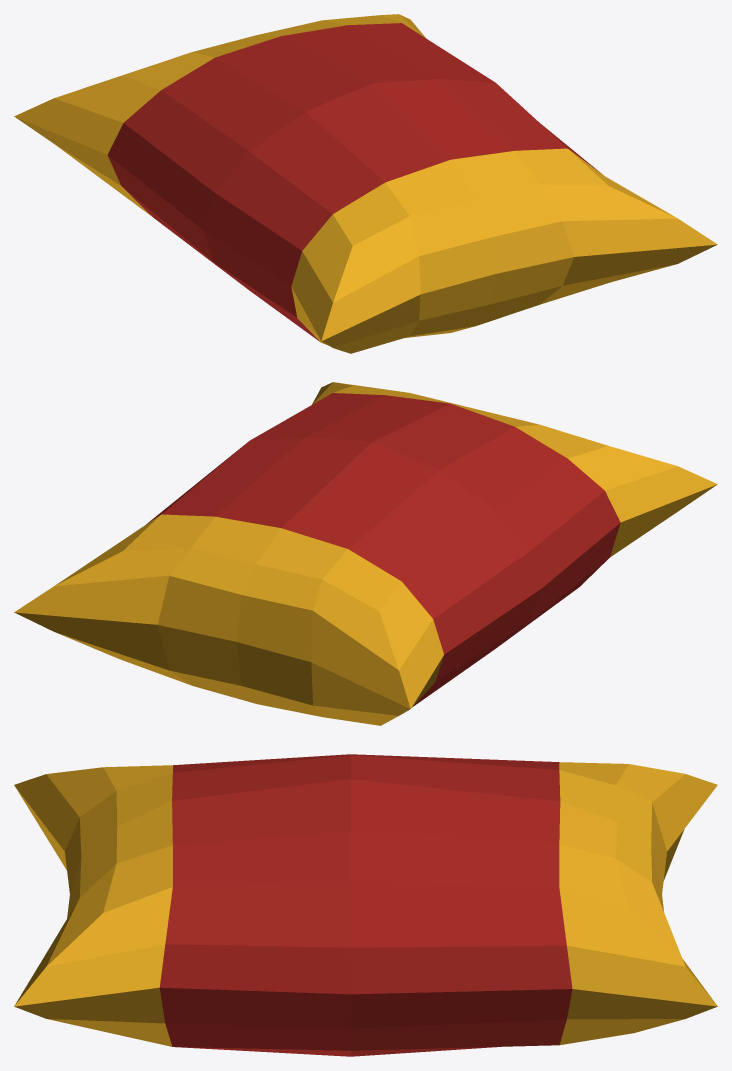
Rendered from sack.fbx.
The picture shows the model from 3 angles, top to bottom: view 1: azimuth 30°, elevation 25°; view 2: azimuth 150°, elevation 25°; view 3: azimuth 270°, elevation 25°; orthographic projection. The views are drawn at different scales.
Visible parts, largest first — view 1: sack_1; view 2: sack_1; view 3: sack_1.
Part boxes in pixels (x1,y1,x2,y2): sack_1: (14, 14, 717, 353); sack_1: (14, 382, 717, 725); sack_1: (14, 754, 717, 1056).
Size of the model in its own units: 1.19 by 0.6322 by 1.6.
